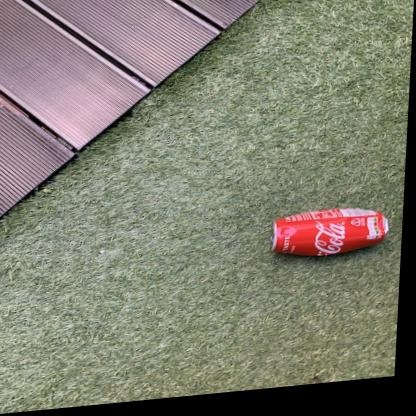trash: (272, 208, 388, 255)
